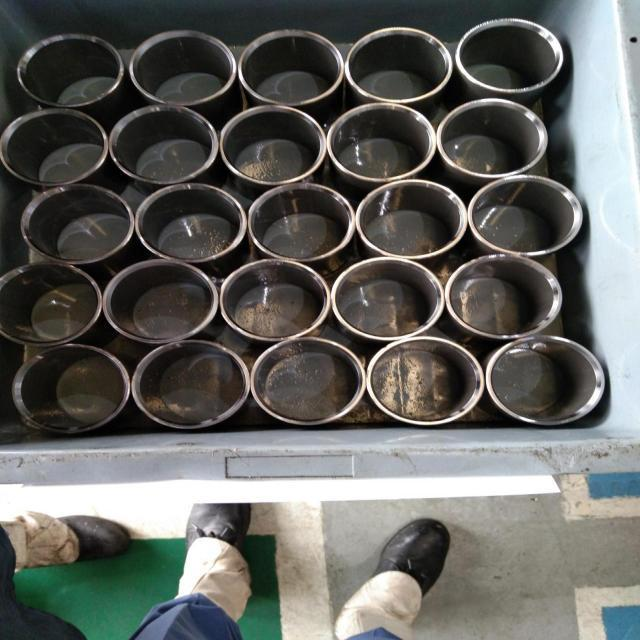pipe: (486, 335, 608, 428), (130, 338, 251, 431), (366, 335, 487, 427), (10, 345, 131, 437), (251, 336, 368, 427), (445, 254, 565, 341), (103, 258, 220, 344), (18, 182, 136, 266), (331, 256, 446, 341), (469, 174, 586, 257), (218, 258, 331, 343), (134, 181, 248, 264), (356, 179, 469, 262), (437, 98, 551, 179), (109, 102, 220, 185), (327, 102, 438, 183), (454, 17, 567, 96), (246, 182, 356, 263), (127, 28, 238, 108), (219, 104, 327, 186), (0, 261, 104, 346), (0, 107, 110, 187), (344, 26, 455, 105), (15, 32, 127, 109), (237, 29, 345, 108)
